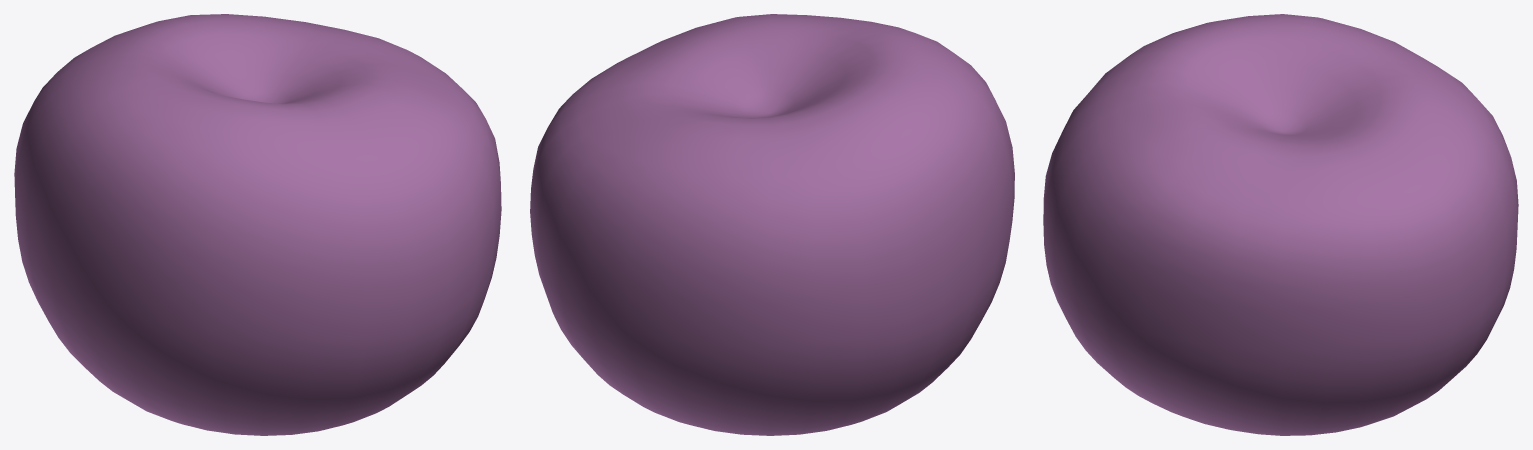
Rendered from BerryRotten.fbx.
The picture shows the model from 3 angles, left to right: view 1: azimuth 30°, elevation 25°; view 2: azimuth 150°, elevation 25°; view 3: azimuth 270°, elevation 25°; orthographic projection. The views are drawn at different scales.
Parts seen in each view (by area): view 1: pSphere1; view 2: pSphere1; view 3: pSphere1.
Boxes of the visible parts, x1,y1,x2,y2 form: pSphere1: [14, 14, 501, 435]; pSphere1: [530, 14, 1014, 435]; pSphere1: [1043, 14, 1518, 435].
Size of the model in its own units: 1.85 by 1.51 by 1.94.
